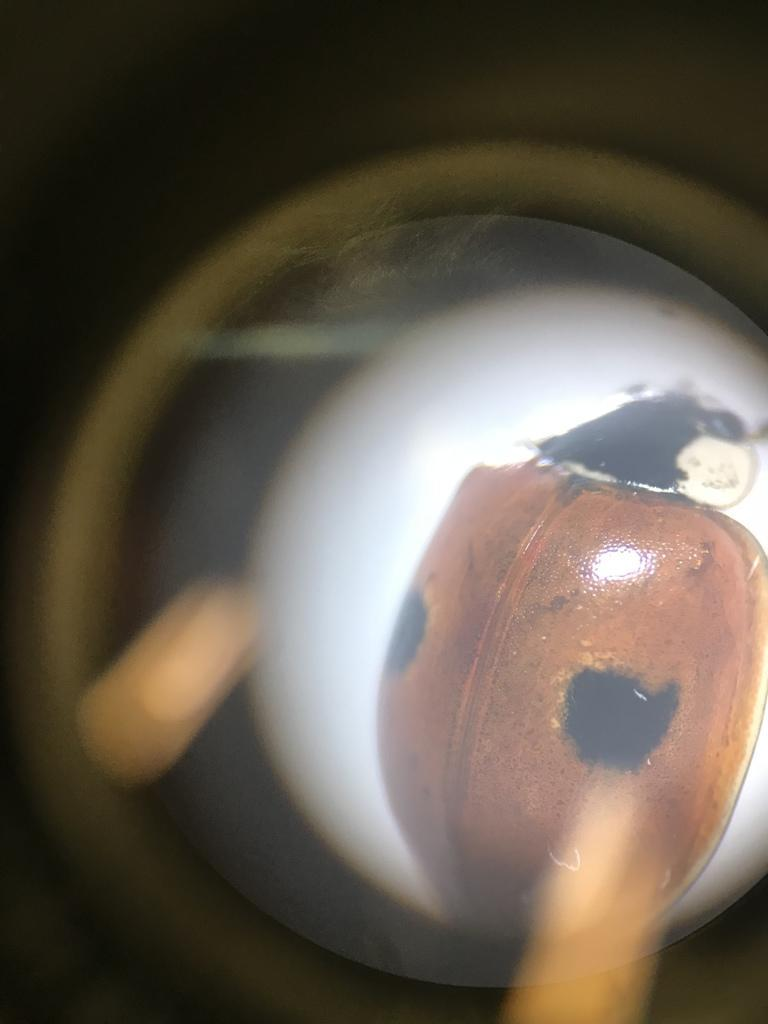ladybug: (361, 364, 768, 954)
